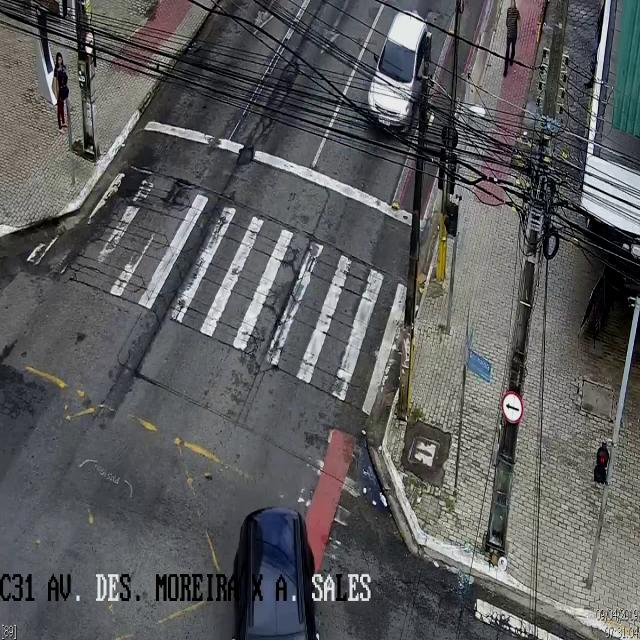Car: (232, 509, 314, 639), (368, 9, 432, 134)
